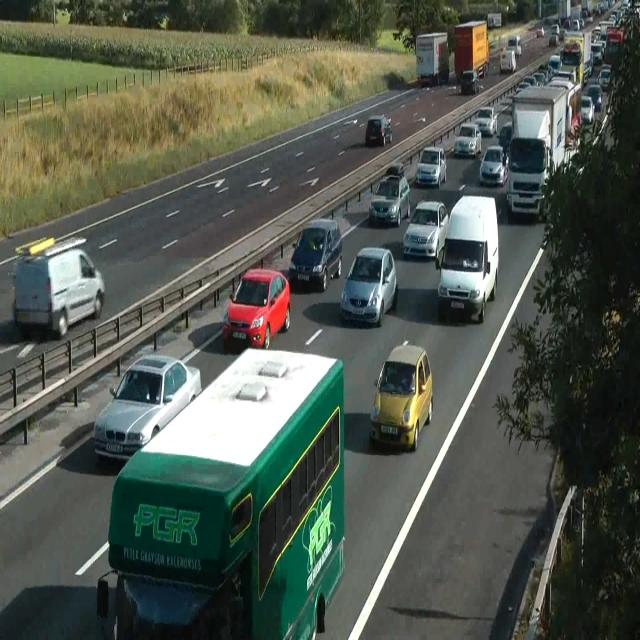bus: (94, 352, 202, 464), (222, 268, 290, 350), (340, 246, 398, 326), (288, 218, 342, 292), (402, 199, 448, 260), (414, 146, 446, 188), (478, 145, 506, 187), (453, 122, 482, 157), (365, 115, 392, 146), (474, 106, 498, 136), (460, 68, 478, 95), (586, 83, 602, 112), (580, 95, 594, 125), (597, 65, 612, 91), (498, 122, 512, 148), (384, 160, 404, 178), (547, 54, 561, 74), (536, 26, 544, 37)
car: (96, 346, 346, 638)
jeep: (10, 235, 105, 338), (434, 194, 498, 322), (369, 338, 433, 451), (506, 135, 550, 220), (368, 172, 411, 226)
minibus: (505, 78, 581, 220), (453, 20, 489, 84), (415, 31, 449, 87), (499, 34, 521, 73), (500, 48, 516, 73), (485, 12, 501, 28)
